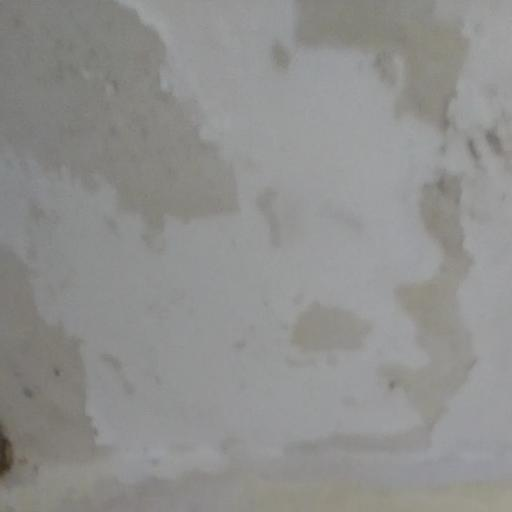peeling: (2, 6, 512, 512)
